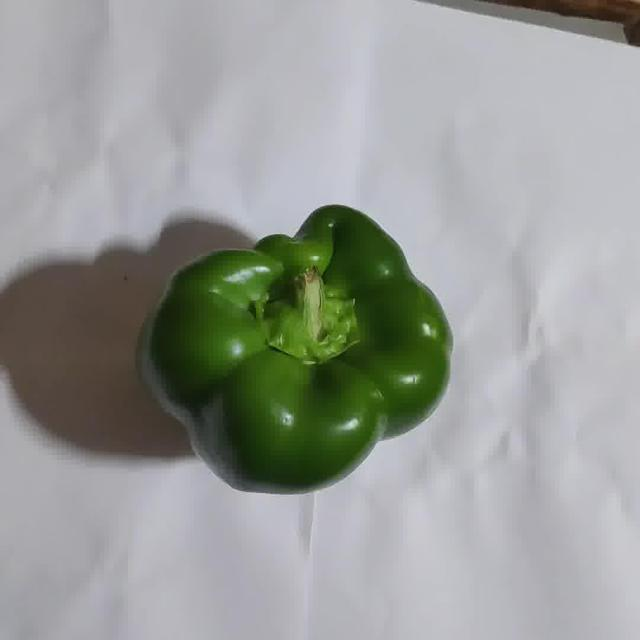Bell Pepper: (143, 205, 452, 493)
